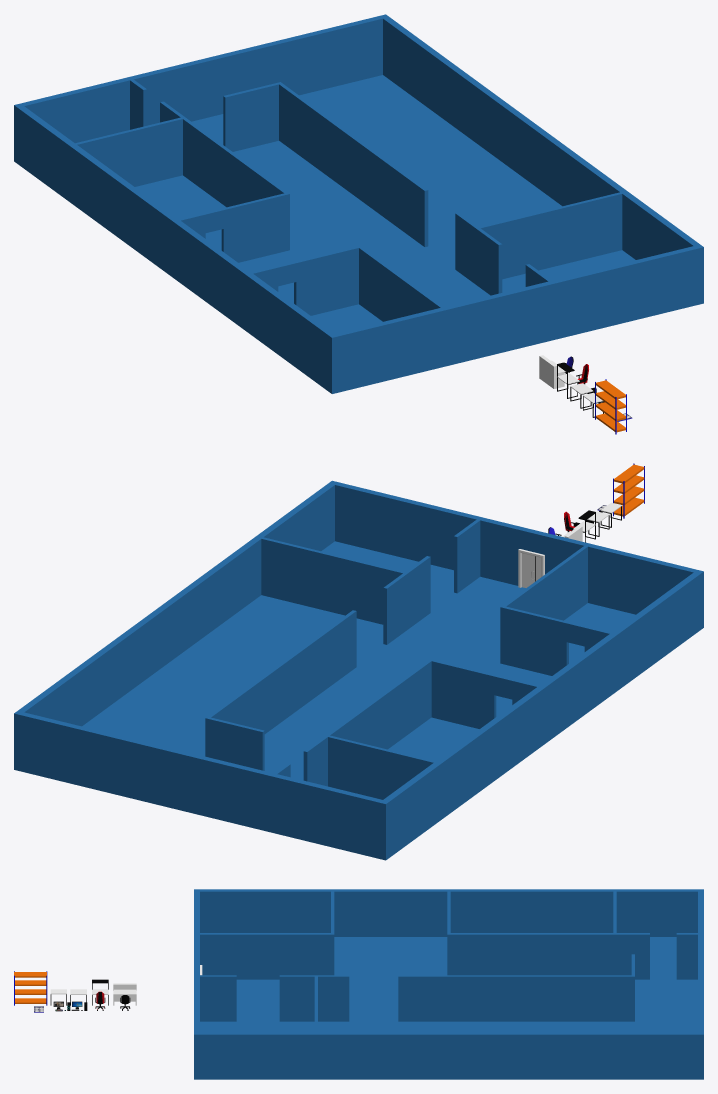
File: gameclub.fbx
3 renders of one model, top to bottom at view 1: azimuth 30°, elevation 25°; view 2: azimuth 150°, elevation 25°; view 3: azimuth 270°, elevation 25°, orthographic. The views are drawn at different scales.
Parts seen in each view (by area): view 1: floor, wall 5, wall 3, wall 7, wall 8, wall 10, wall 9, wall 1, wall 6, wall 4, rack, wall 11; view 2: floor, wall 3, wall 5, wall 7, wall 10, wall 9, wall 8, wall 1, wall 4, wall 6, wall 2, rack (+1 smaller); view 3: floor, wall 5, wall 7, wall 1, wall 4, wall 2, wall 11, rack, admin_table.
Part boxes in pixels (bbox=[...]): floor: bbox=[14, 14, 703, 393]; wall 5: bbox=[279, 83, 428, 246]; wall 3: bbox=[479, 192, 622, 279]; wall 7: bbox=[160, 101, 289, 250]; wall 8: bbox=[75, 117, 184, 186]; wall 10: bbox=[179, 193, 288, 262]; wall 9: bbox=[251, 246, 360, 315]; wall 1: bbox=[359, 245, 443, 321]; wall 6: bbox=[223, 82, 282, 151]; wall 4: bbox=[455, 212, 502, 295]; rack: bbox=[595, 379, 626, 434]; wall 11: bbox=[129, 79, 146, 129]; floor: bbox=[14, 480, 703, 860]; wall 3: bbox=[261, 537, 404, 624]; wall 5: bbox=[208, 610, 356, 733]; wall 7: bbox=[303, 659, 432, 786]; wall 10: bbox=[431, 659, 538, 728]; wall 9: bbox=[502, 606, 611, 675]; wall 8: bbox=[326, 735, 435, 799]; wall 1: bbox=[500, 546, 587, 664]; wall 4: bbox=[383, 556, 430, 644]; wall 6: bbox=[205, 716, 264, 770]; wall 2: bbox=[454, 519, 480, 593]; rack: bbox=[613, 463, 644, 518]; floor: bbox=[194, 889, 703, 1079]; wall 5: bbox=[398, 975, 631, 1021]; wall 7: bbox=[447, 933, 649, 979]; wall 1: bbox=[200, 933, 334, 979]; wall 4: bbox=[279, 975, 349, 1021]; wall 2: bbox=[200, 975, 236, 1021]; wall 11: bbox=[676, 933, 699, 979]; rack: bbox=[14, 971, 47, 1005]; admin_table: bbox=[113, 983, 136, 1005].
Bounding box in the file's own units: 2073 × 300 × 4155.
15 materials, 5 textured.
